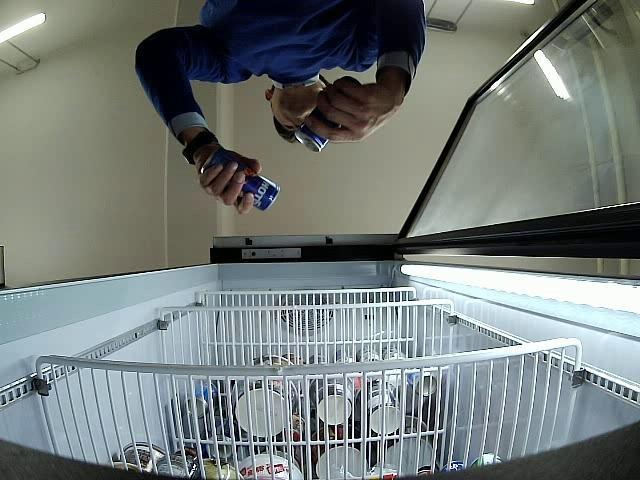16_hot6: (200, 151, 282, 213), (296, 78, 360, 154)
